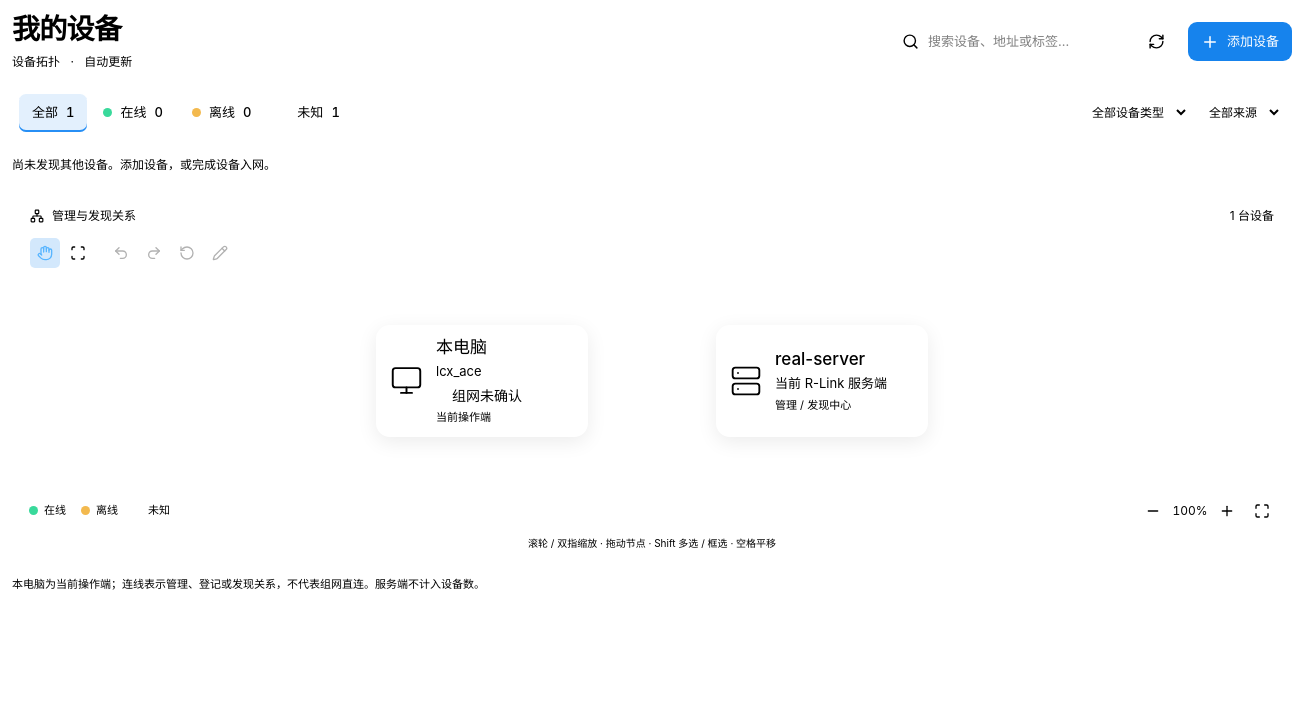
shows this desktop independently of the remote server and an empty inventory
Click the button with aria-label "查看设备：本电脑" at (482, 381), box left=376, top=325, right=588, bottom=437
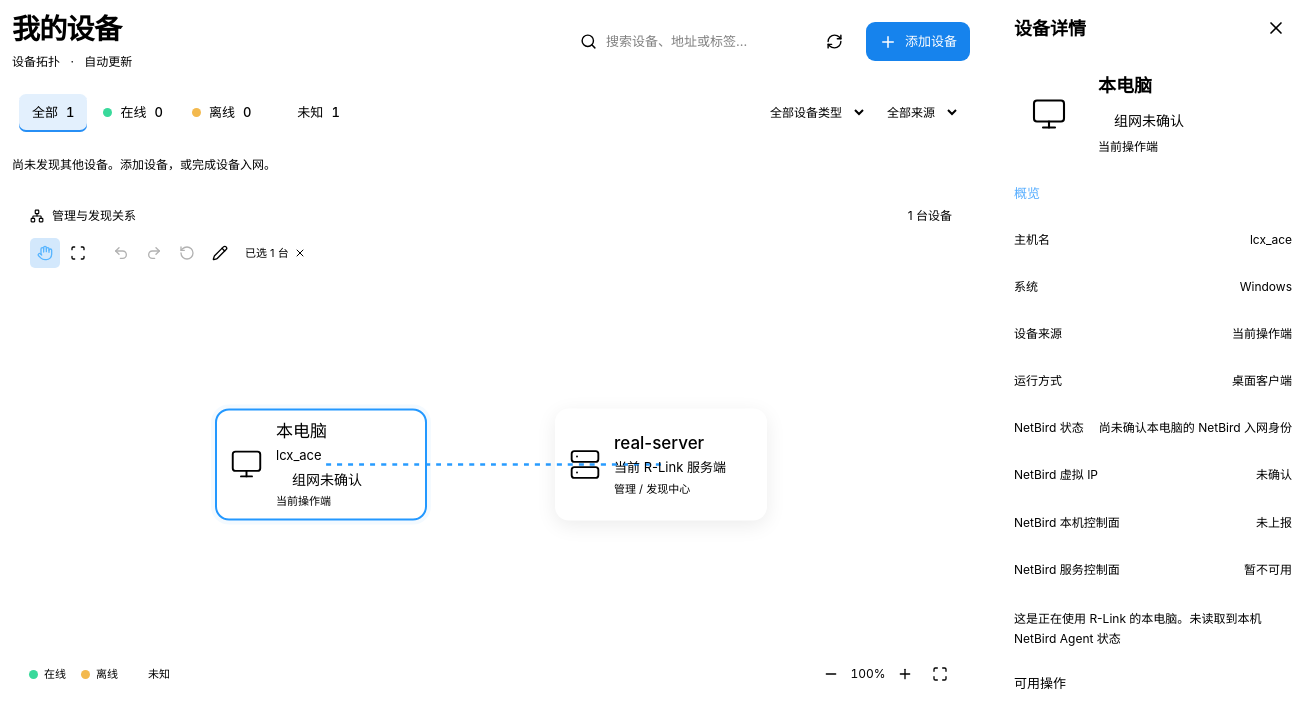
Now the text "lcx_ace" in the row of "主机名" is shown, box left=1250, top=232, right=1292, bottom=246
Now the text "Windows" is shown, box left=1240, top=277, right=1292, bottom=296
Now the text "组网未确认" below "设备详情" is shown, box left=1114, top=112, right=1184, bottom=129
